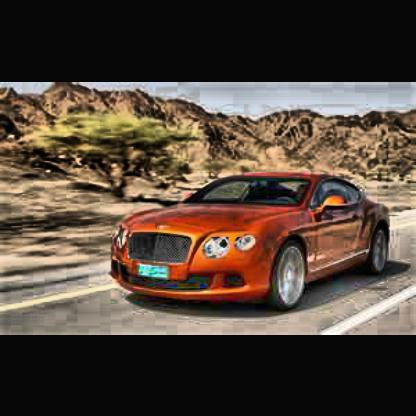Bentley Continental GT Coupe 2012: (111, 170, 396, 319)
